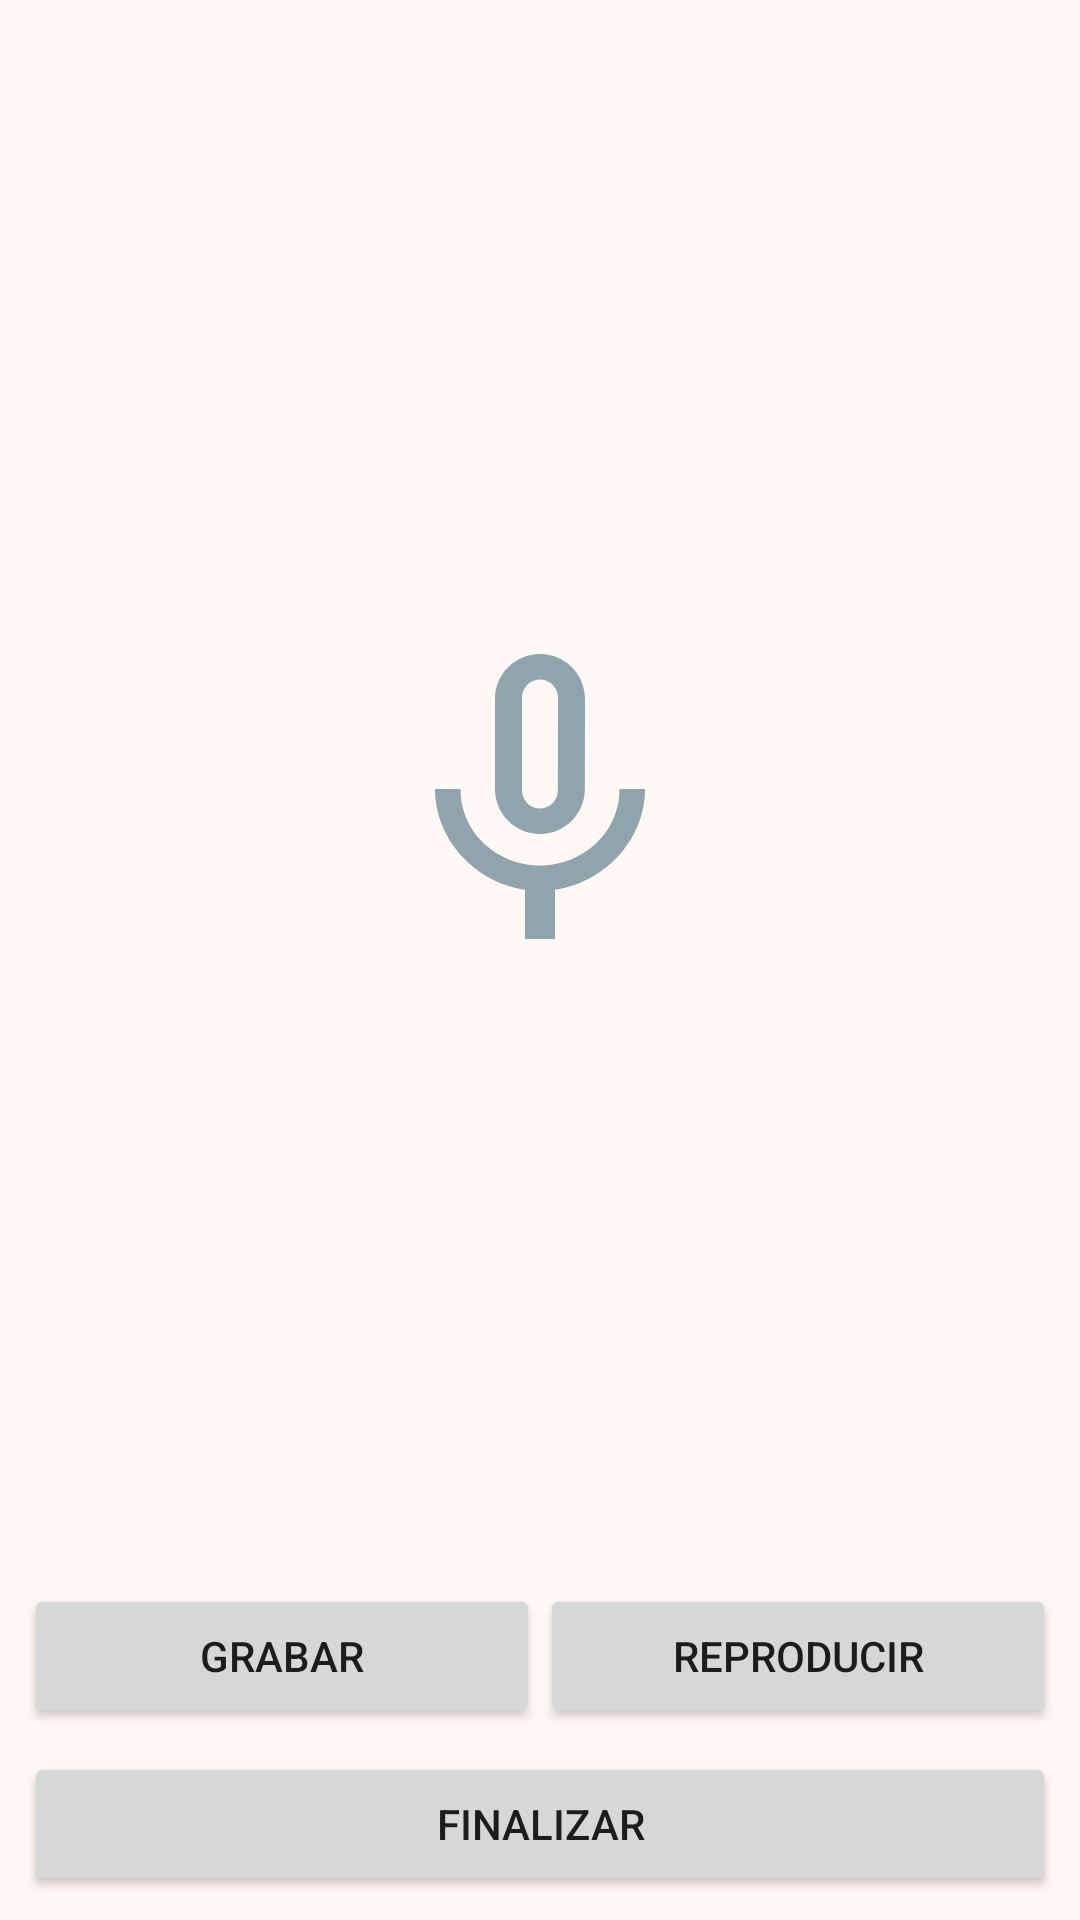

Named icons in this screenshot (1080 x 1920) and their centers, point (x, y):
Grabando audio: point (540, 796)
